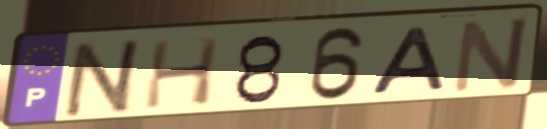6: (306, 25, 367, 103)
8: (233, 32, 285, 105)
A: (367, 24, 449, 97)
H: (140, 35, 224, 112)
N: (59, 36, 150, 120), (448, 14, 533, 96)
